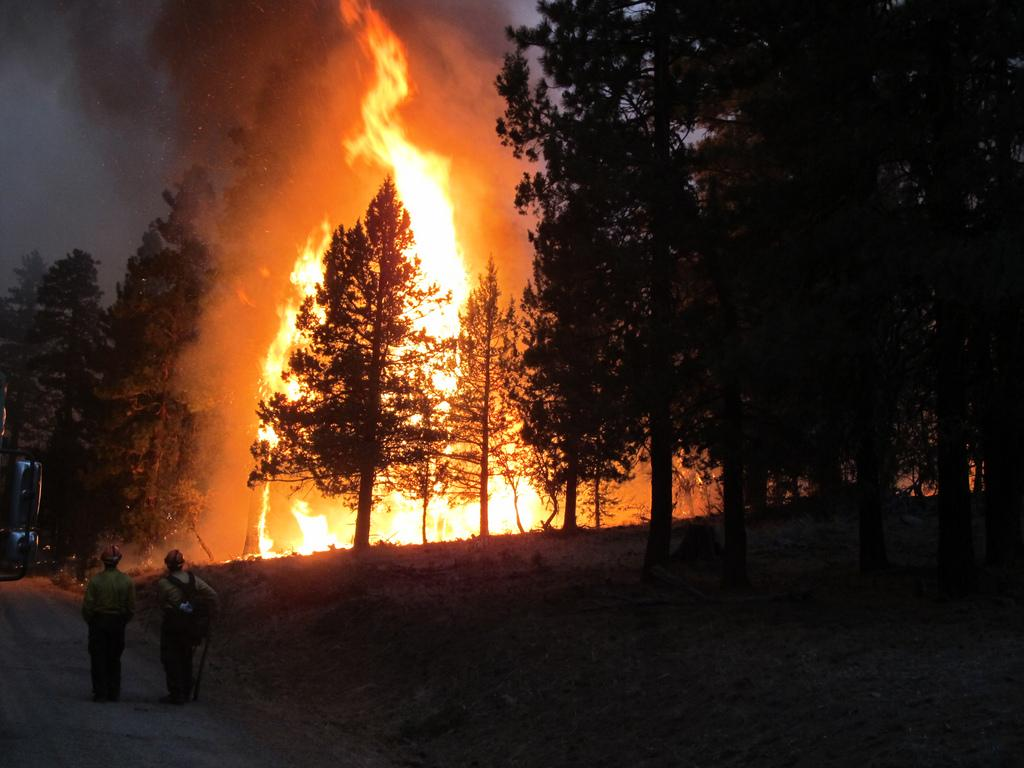fire: (360, 12, 432, 160), (406, 168, 470, 318), (372, 480, 536, 534), (298, 504, 330, 552)
